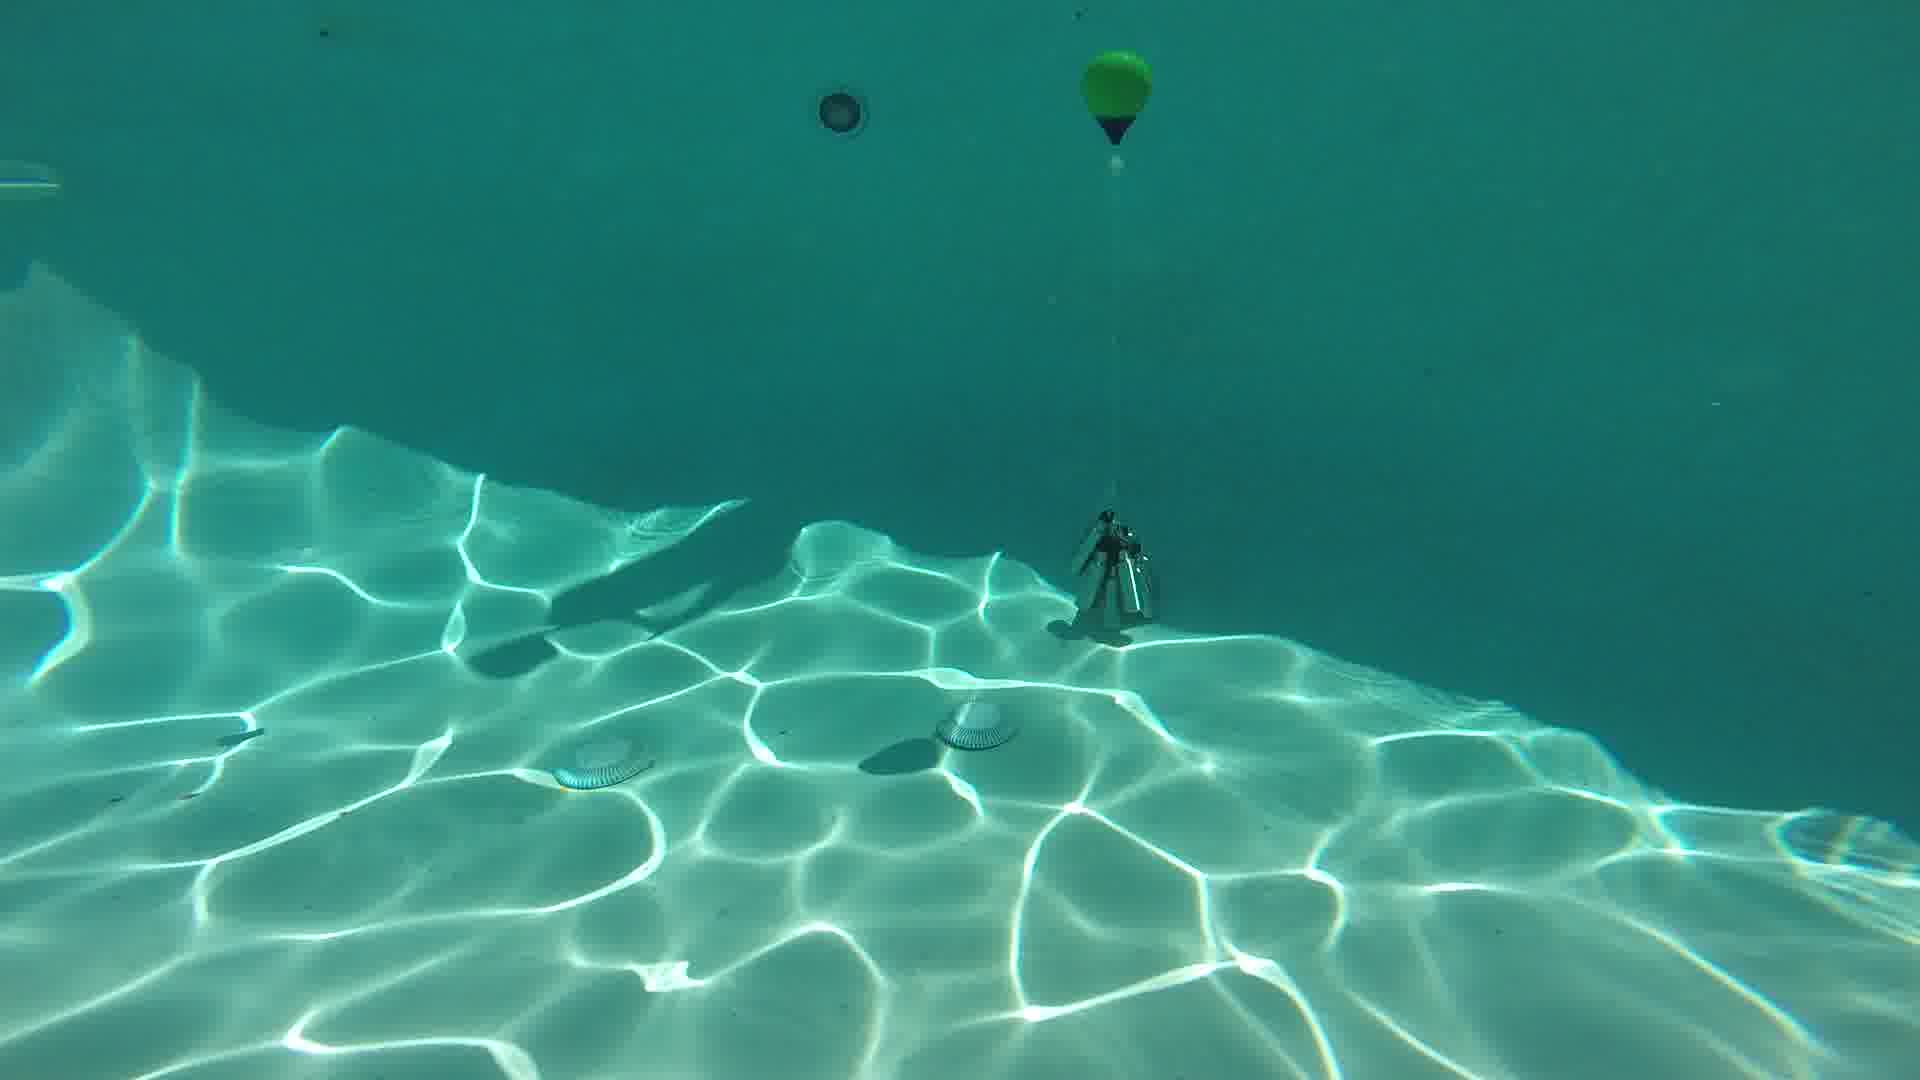yellow_buoy: (1081, 51, 1153, 175)
